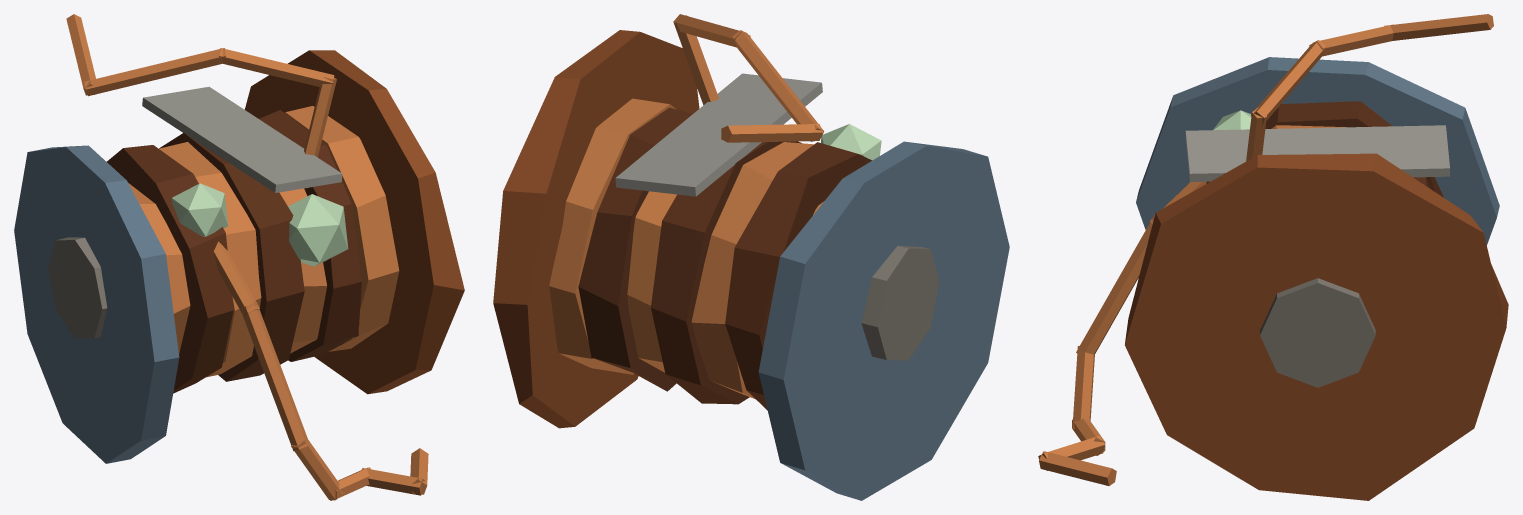
File: coil_scrap.glb
3 views of the same model, side by side, from view 1: azimuth 30°, elevation 25°; view 2: azimuth 150°, elevation 25°; view 3: azimuth 270°, elevation 25° (orthographic). The views are drawn at different scales.
Visible parts, largest first — view 1: coil_scrap; view 2: coil_scrap; view 3: coil_scrap.
Part boxes in pixels (box(x1,y1,x2,y2)): coil_scrap: box(14, 14, 464, 500); coil_scrap: box(493, 14, 1009, 500); coil_scrap: box(1038, 14, 1508, 500).
Bounding box in the file's own units: 0.1544 × 0.1798 × 0.195.
